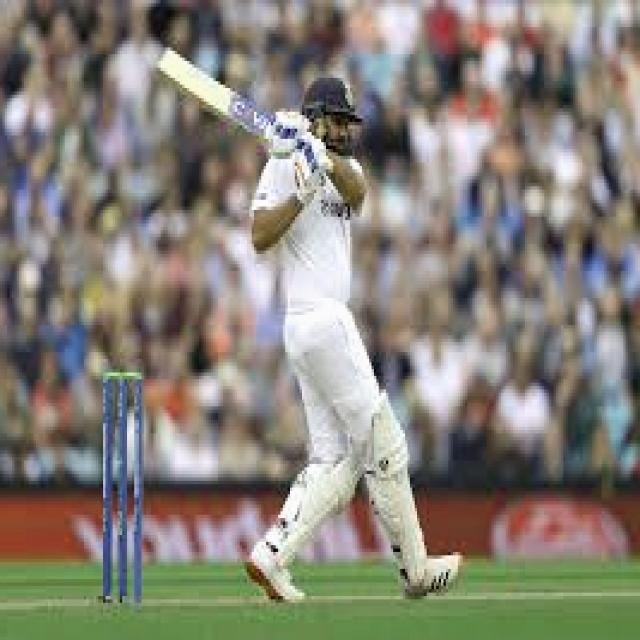toe: (154, 46, 174, 77)
